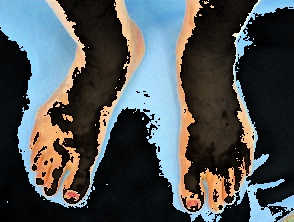vitiligo: (18, 0, 154, 213), (173, 0, 266, 217)
